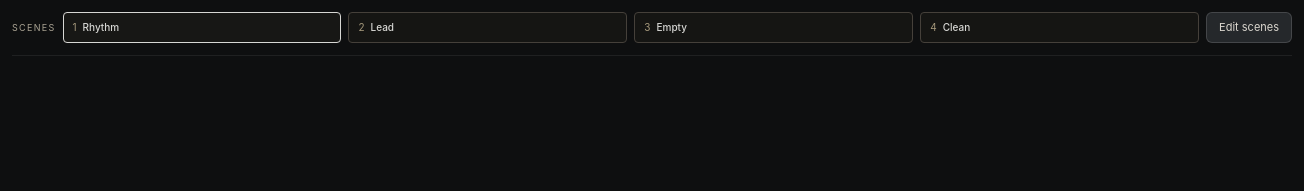
it: recalls a stored scene and distinguishes the active tone from the edit slot
Click the button with aria-label "Scene 2: Lead": (361, 27) [348,12,627,43]
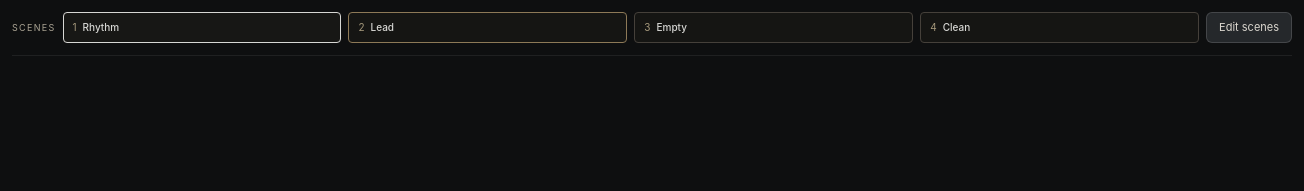
Click the button "Edit scenes": (1249, 28) [1206,12,1292,43]
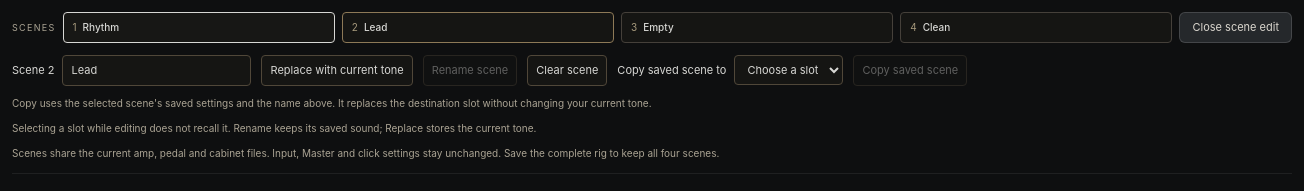
Expected: the field named "Scene name" holds "Lead", [62,55,252,86]
Expected: the button "Replace with current tone" is shown, [262,55,413,86]
